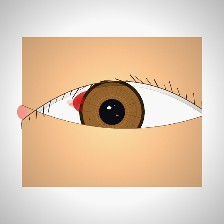hemorrhage_spot: (64, 78, 127, 128)
